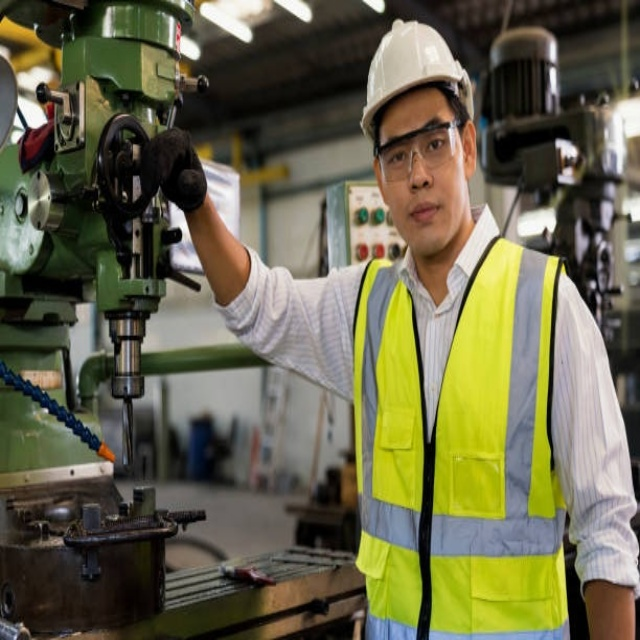Gafas: (375, 111, 467, 180)
Guantes: (138, 127, 207, 213)
Sin_mascara: (397, 195, 448, 240)
